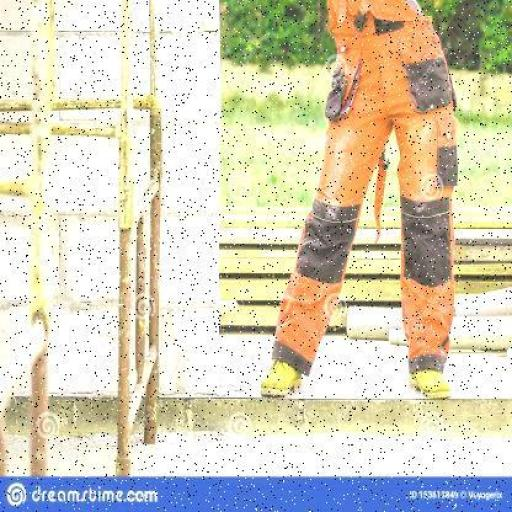safety_shoe: (264, 352, 307, 402), (404, 366, 458, 404)
